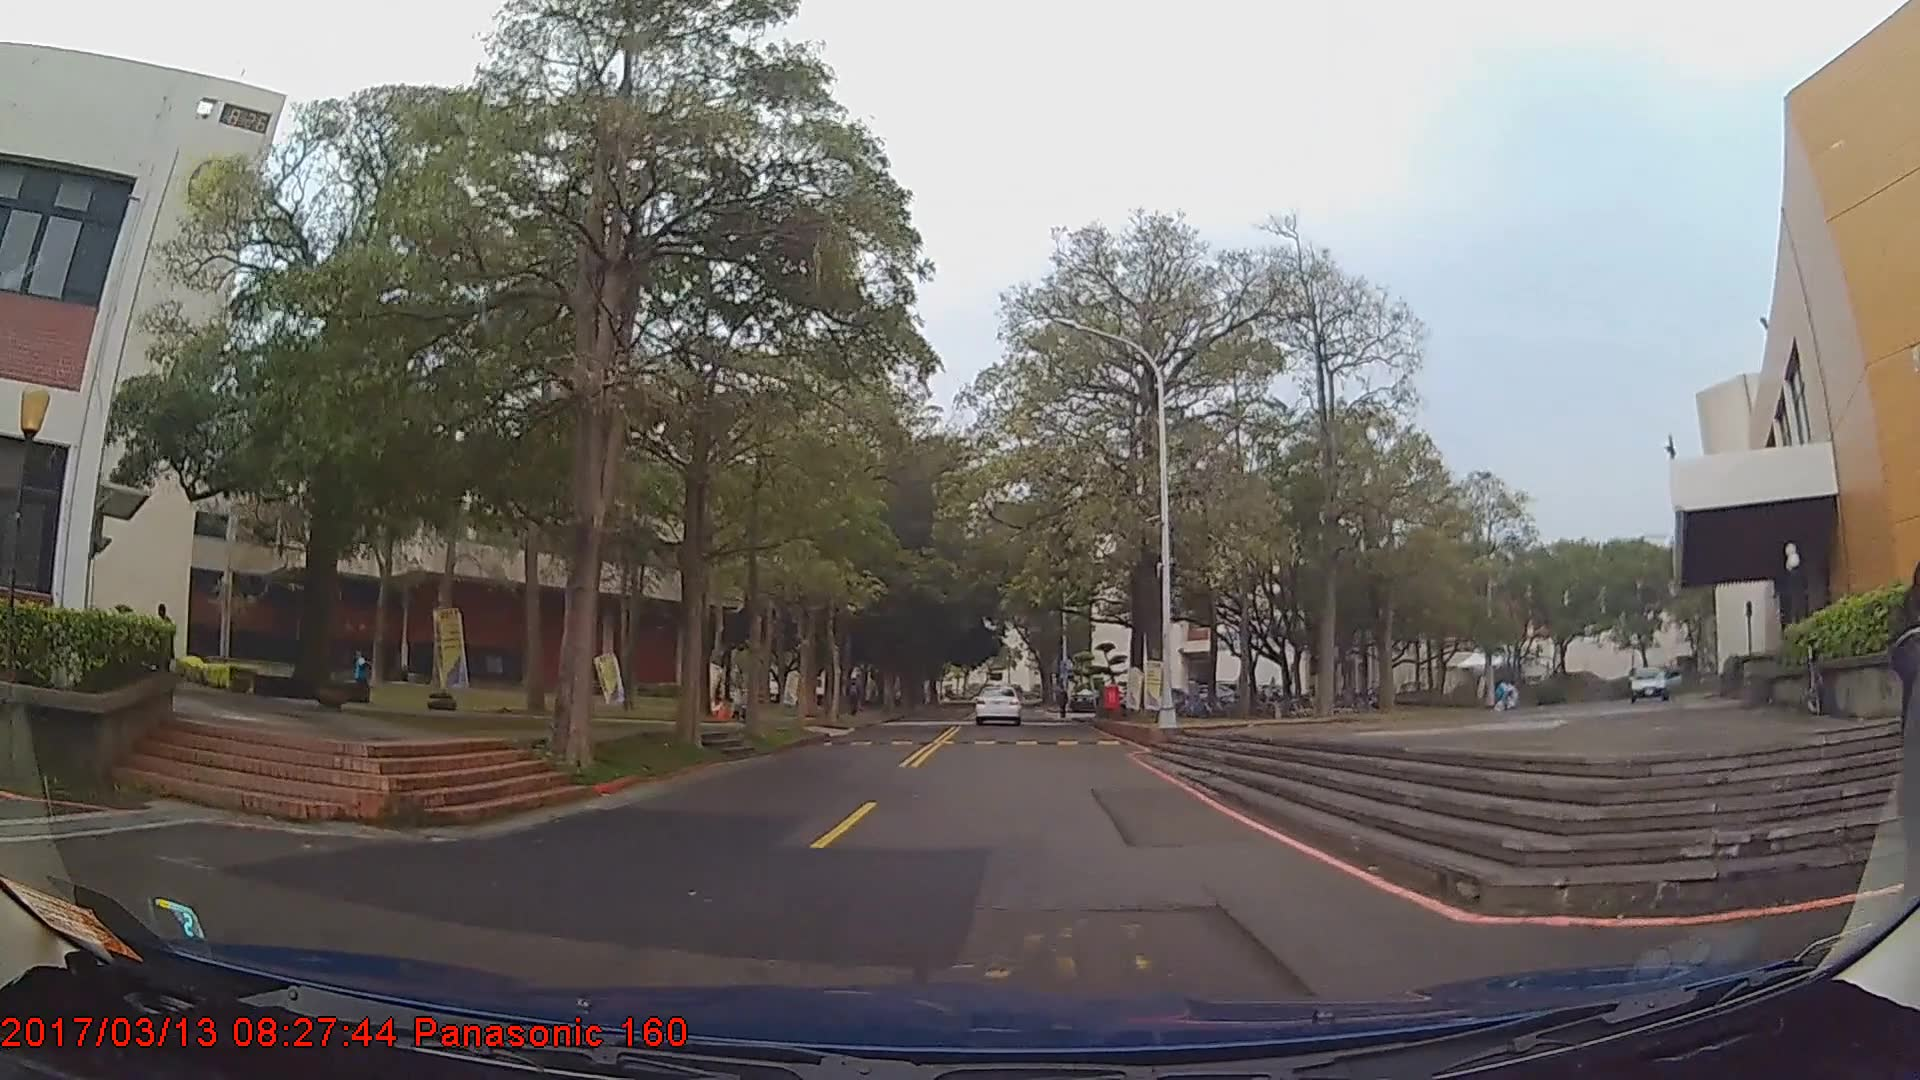pedestrian: (1890, 564, 1919, 997)
vehicle: (1622, 661, 1689, 702), (975, 680, 1023, 723)
